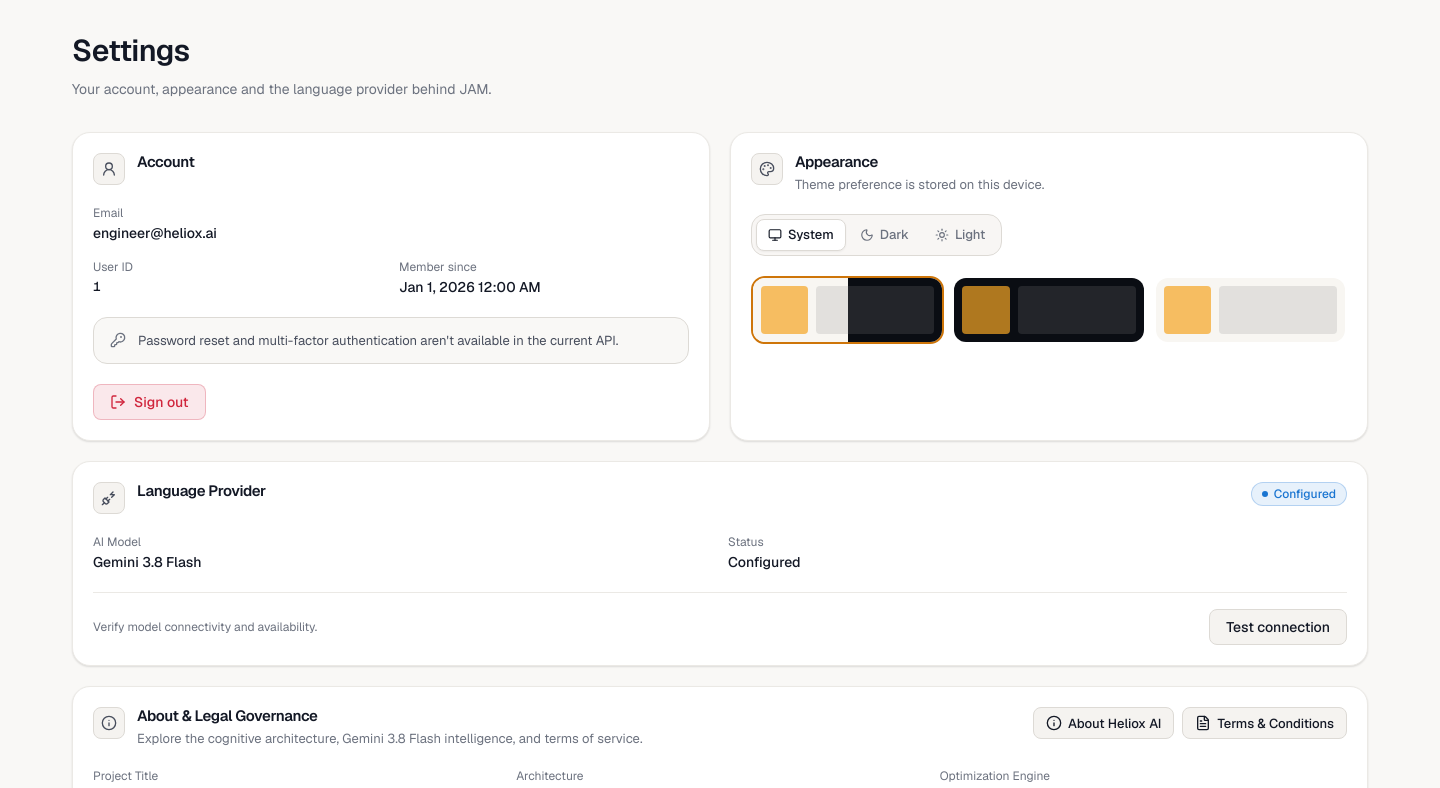
Test: SettingsPage - Language Provider Section › transitions to Connection failed when test connection fails
The width and height of the screenshot is (1440, 788).
Click the button "Test connection".
click(1278, 627)  # box [1209,609,1347,645]
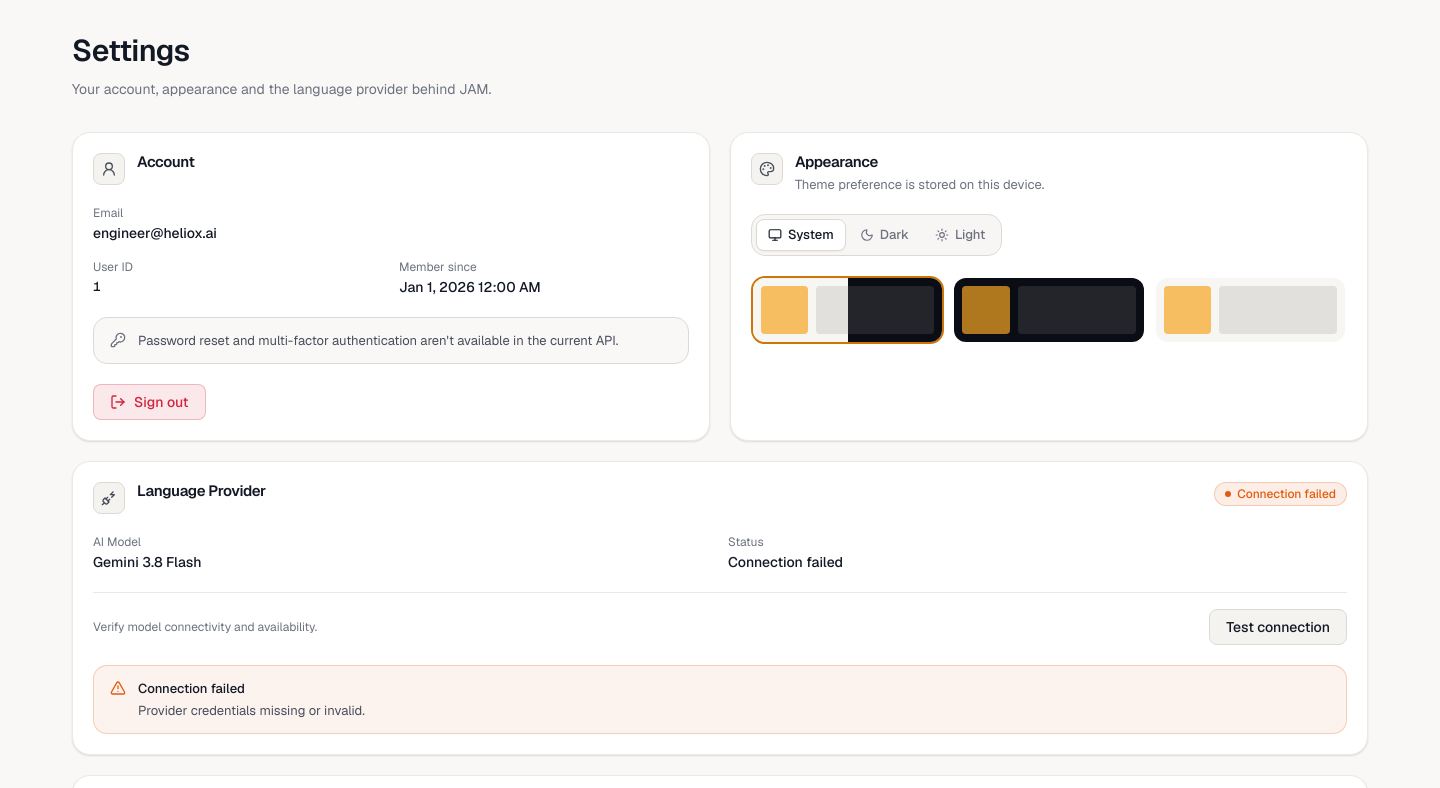
Check: the text "Provider credentials missing or invalid." is shown, box [138,702,365,718]
